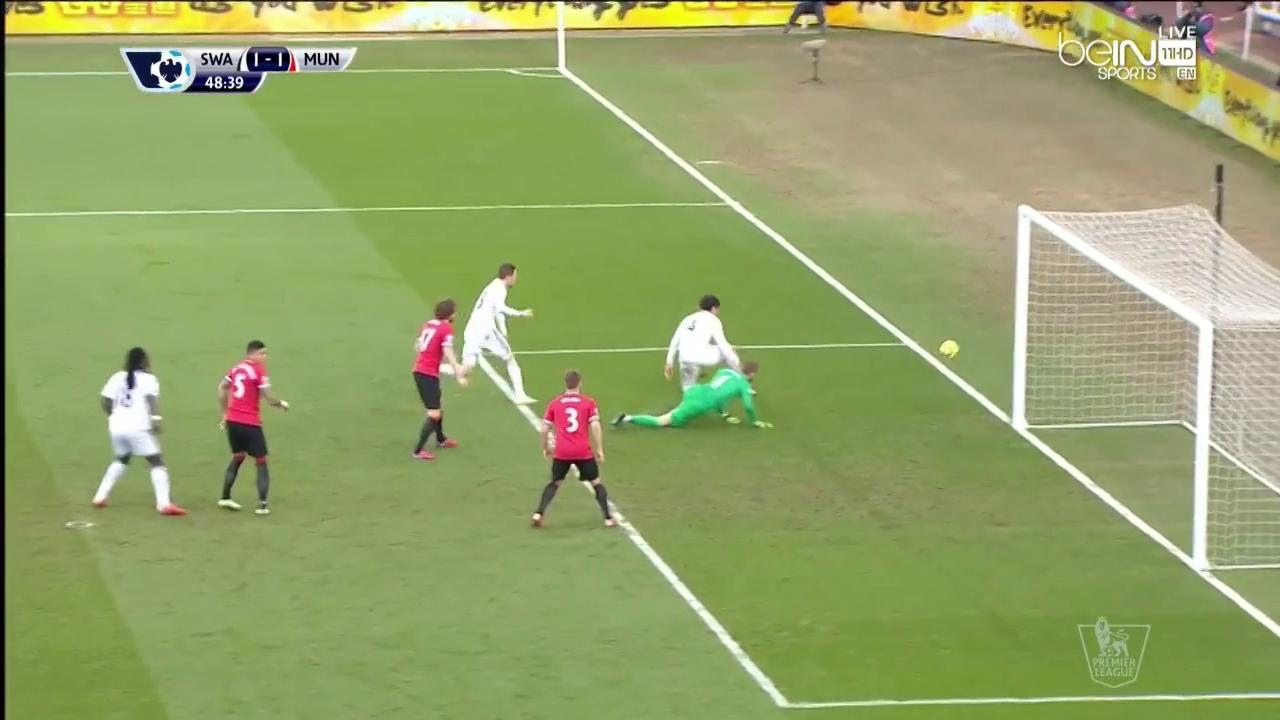football: (939, 340, 960, 360)
